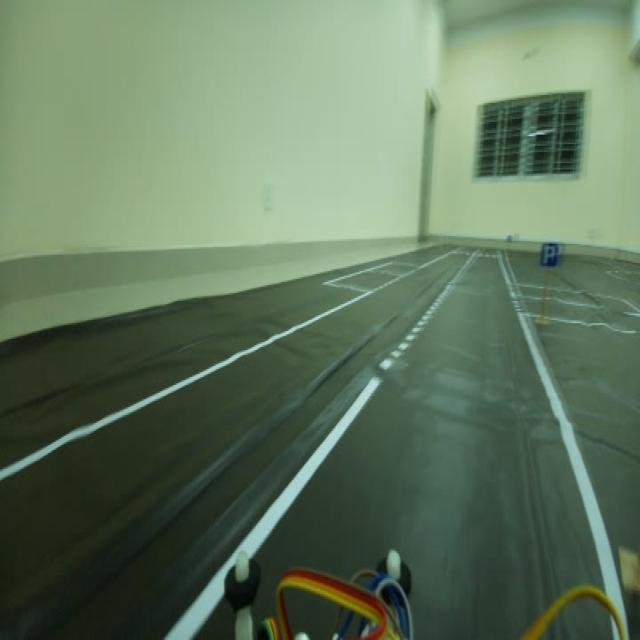parking: (538, 231, 562, 276)
